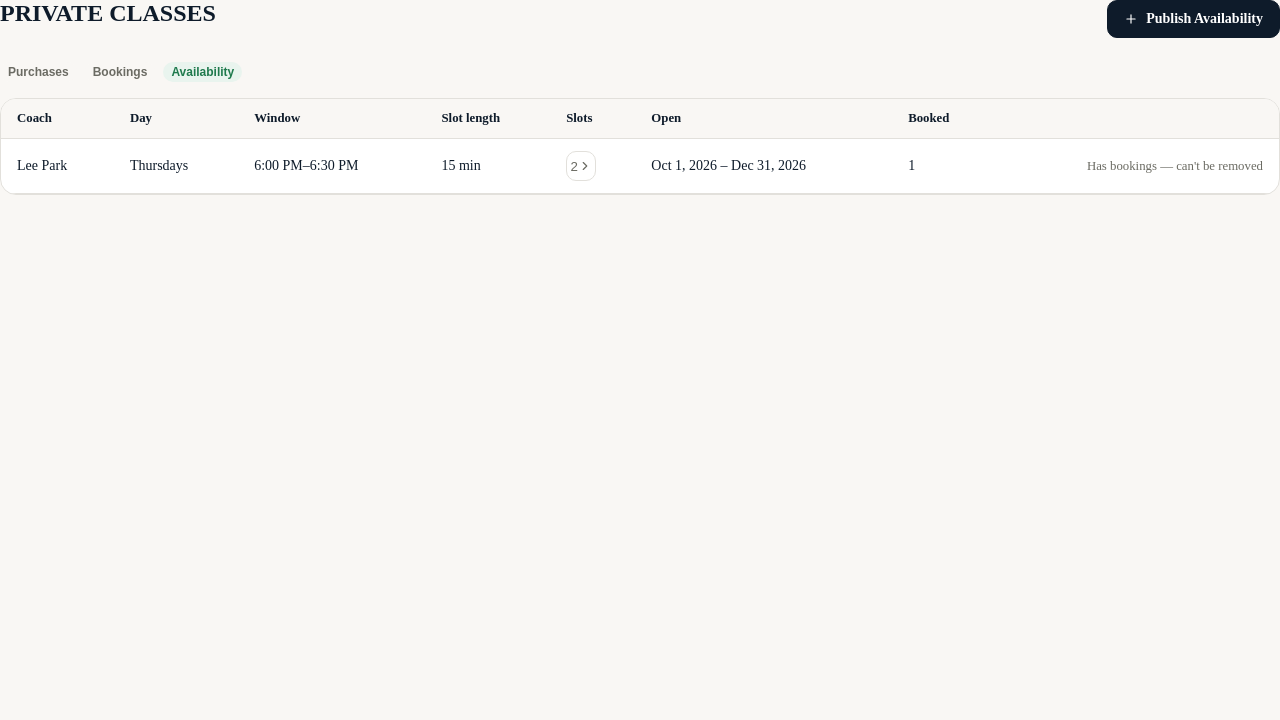
Scenario: AdminPrivateClassesPage › Availability: a window shows its slots, and an open slot is removed on its own while a booked one stays
Expected: the text "Has bookings — can't be removed" is shown, [1087,159,1263,173]
Expected: the text "6:00 PM–6:15 PM" is not shown
What coordinates should you click on to do the following:
click the button named "Show slots of Thursdays · 6:00 PM–6:30 PM"
I would click on:
 (581, 166)
Its box is [566,151,596,181].
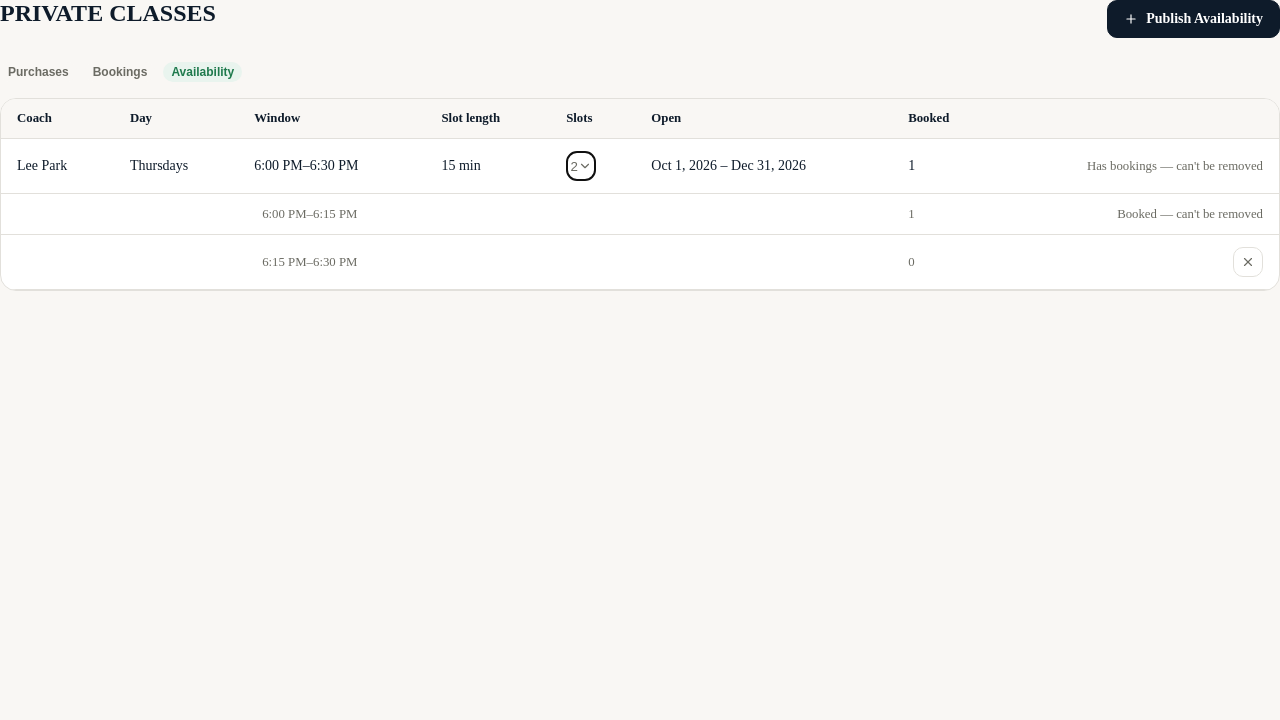
Expected: the button named "Show slots of Thursdays · 6:00 PM–6:30 PM" is expanded, [566,151,596,181]
Expected: the text "Booked — can't be removed" is shown, [1117,207,1263,221]
What coordinates should you click on to do the following:
click the button named "Remove Thursdays · 6:15 PM–6:30 PM"
I would click on:
 (1248, 262)
Its box is [1233,247,1263,277].
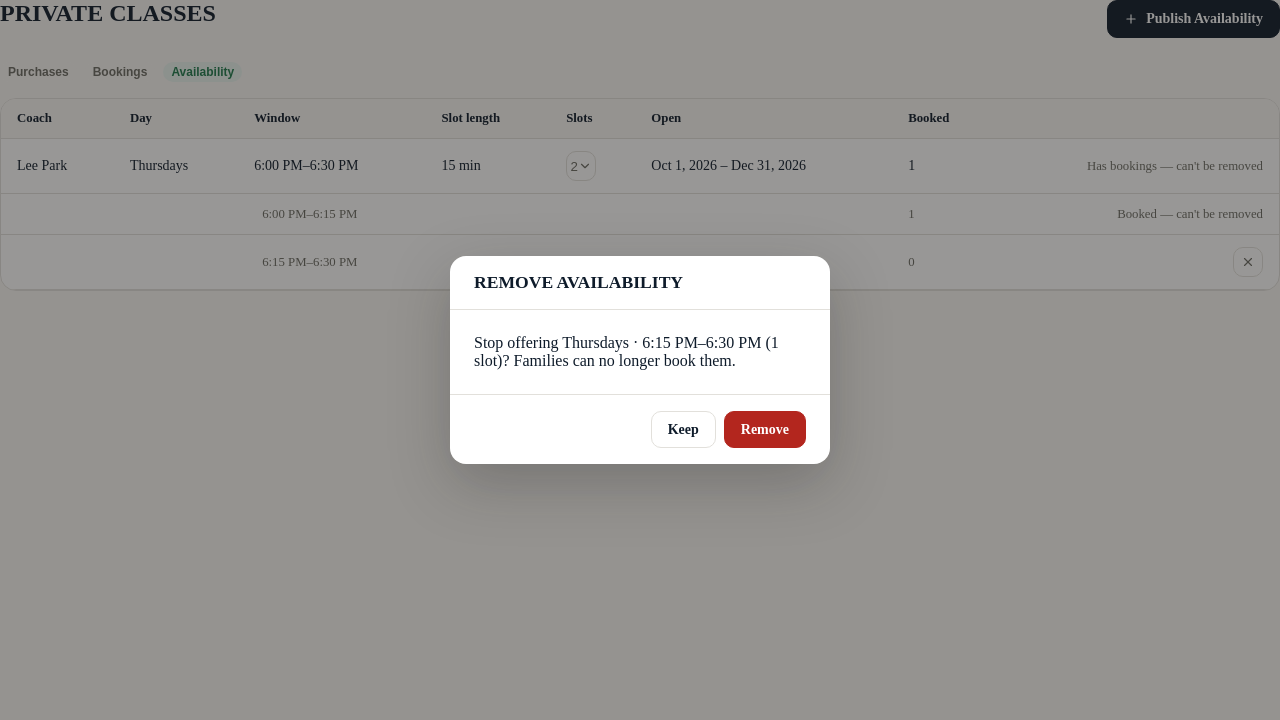
Expected: the text "Stop offering Thursdays · 6:15 PM–6:30 PM (1 slot)?" is shown, [474,334,779,369]
What coordinates should you click on to do the following:
click the button "Remove"
I would click on:
 (765, 430)
Its box is [724,411,806,448].
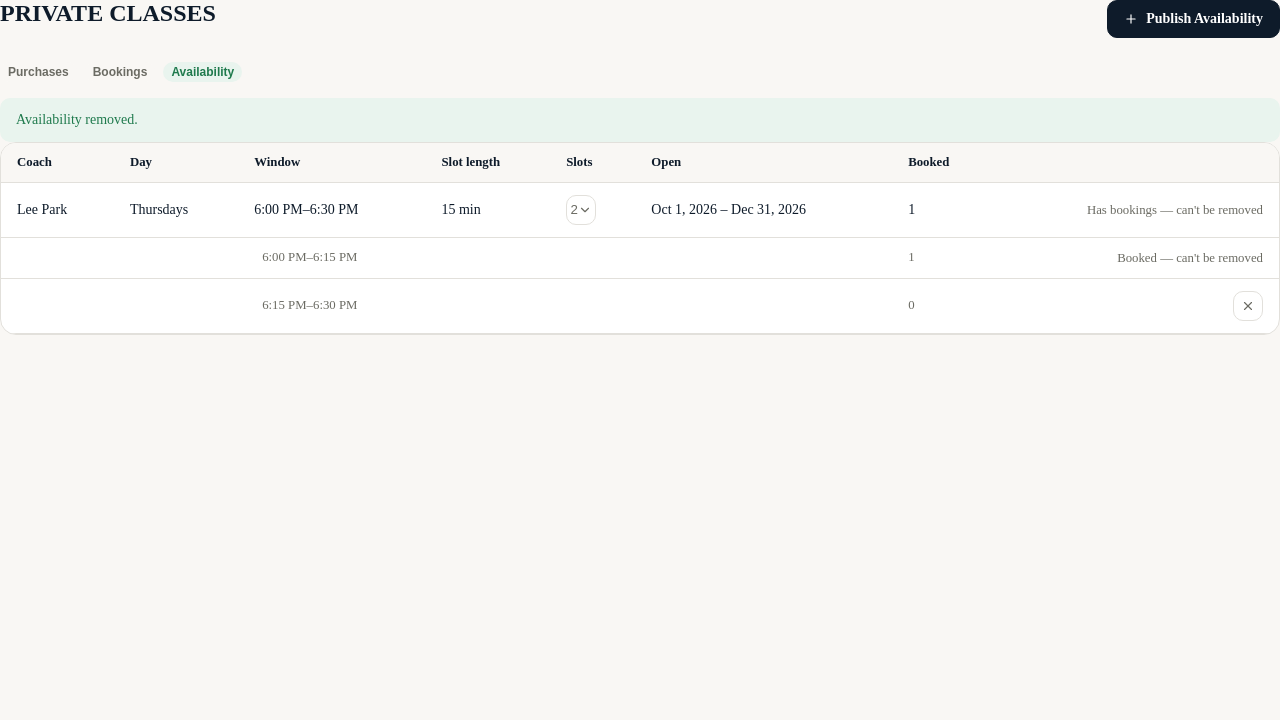
Expected: the text "Availability removed." is shown, [0,98,1279,142]
